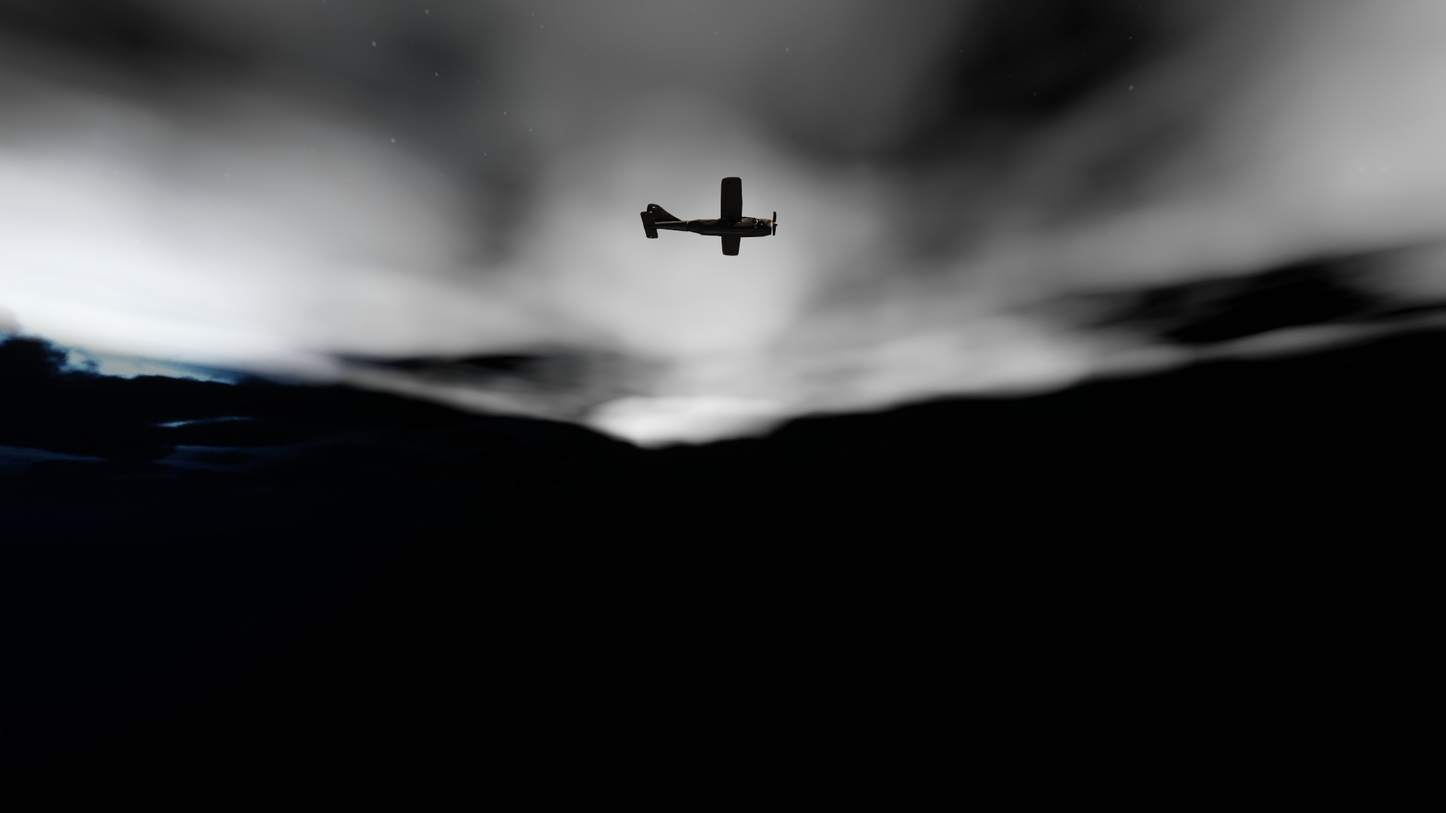drone_other: (640, 177, 778, 256)
